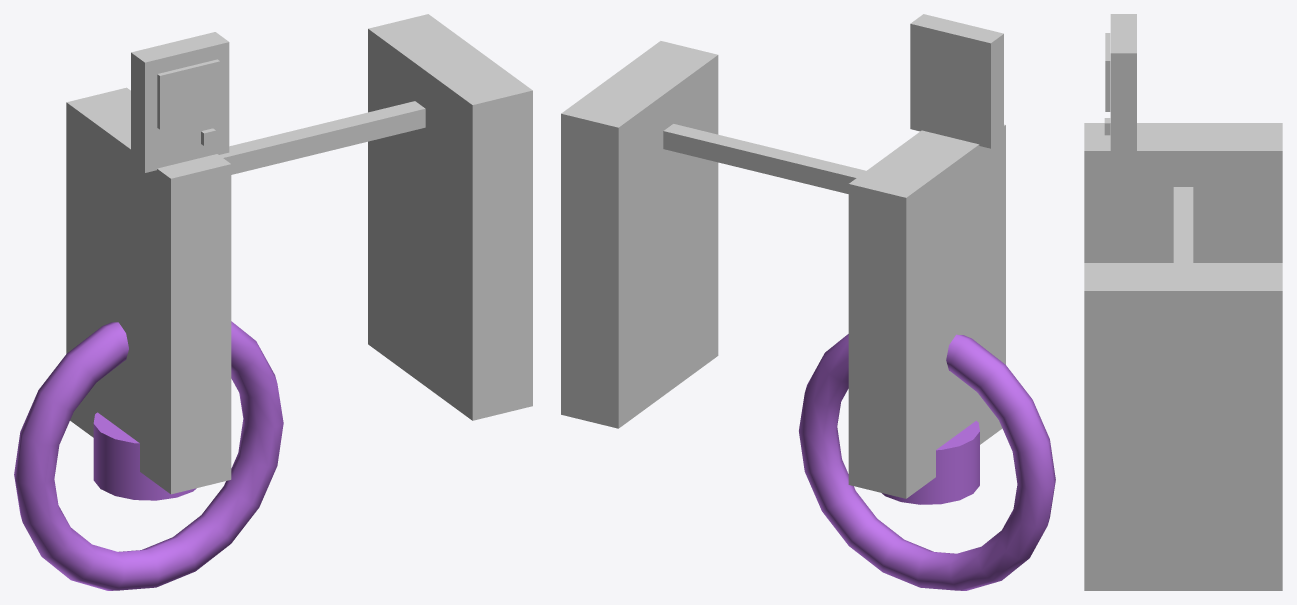
3 views of the same model, side by side, from view 1: azimuth 30°, elevation 25°; view 2: azimuth 150°, elevation 25°; view 3: azimuth 270°, elevation 25° (orthographic). The views are drawn at different scales.
Parts seen in each view (by area): view 1: part002, part001, visualHandle, part004, part003, object 8, part005; view 2: part002, part001, visualHandle, part004, part003, object 8; view 3: part002, part001, part004, part003, part005.
Part boxes in pixels (x1=…): part002: x1=368, y1=14, x2=532, y2=420; part001: x1=66, y1=87, x2=231, y2=494; visualHandle: x1=14, y1=321, x2=283, y2=590; part004: x1=131, y1=32, x2=229, y2=172; part003: x1=219, y1=101, x2=425, y2=174; object 8: x1=93, y1=412, x2=196, y2=500; part005: x1=157, y1=59, x2=220, y2=129; part002: x1=561, y1=41, x2=718, y2=428; part001: x1=848, y1=124, x2=1005, y2=498; visualHandle: x1=799, y1=334, x2=1055, y2=590; part004: x1=910, y1=14, x2=1003, y2=148; part003: x1=663, y1=124, x2=865, y2=193; object 8: x1=882, y1=420, x2=979, y2=504; part002: x1=1084, y1=263, x2=1282, y2=590; part001: x1=1084, y1=123, x2=1282, y2=262; part004: x1=1110, y1=14, x2=1136, y2=158; part003: x1=1173, y1=187, x2=1193, y2=262; part005: x1=1105, y1=33, x2=1110, y2=111.
Size of the model in its own units: 1.54 by 1.79 by 0.6.
